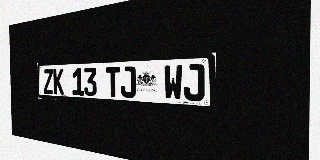1: (72, 68, 84, 96)
3: (84, 67, 97, 96)
J: (183, 64, 204, 102), (120, 66, 136, 98)
K: (53, 69, 64, 95)
T: (106, 67, 120, 97)
W: (164, 65, 183, 100)
Z: (43, 69, 53, 94)
